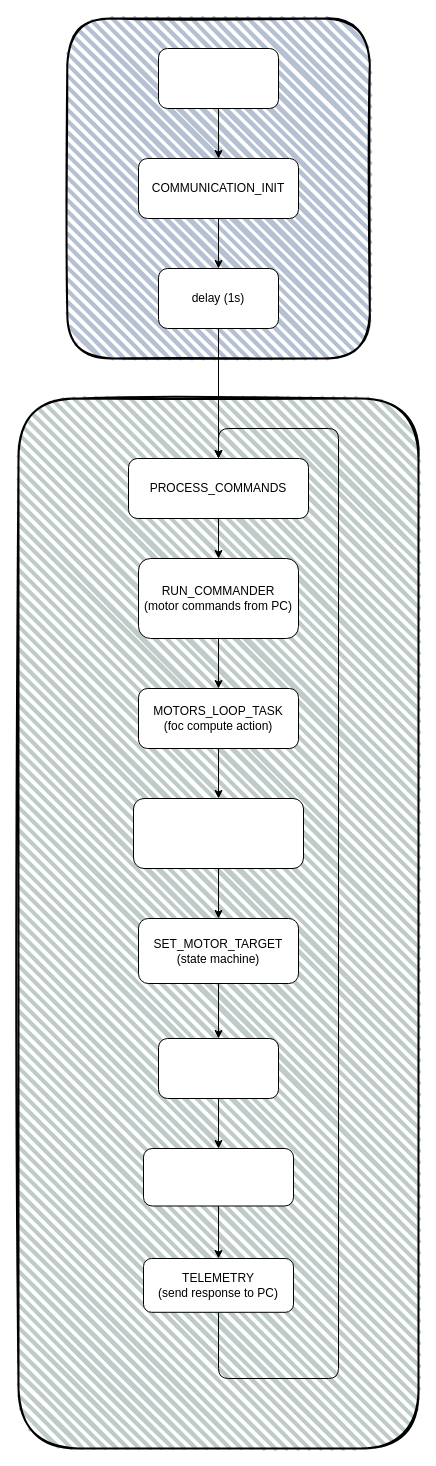
The diagram is 436 pixels wide and 1466 high, and some of its shapes have lost their labels. The centre of each missing label's shape, as x and y in pixels:
"LOOK_FOR_ERRORS" belongs at point (218, 833).
"MOVE_MOTORS" belongs at point (218, 1068).
"SEND_FEEDBACK (send response to stm)" belongs at point (218, 1177).
"SET_PINS_AS_LOW" belongs at point (218, 78).
